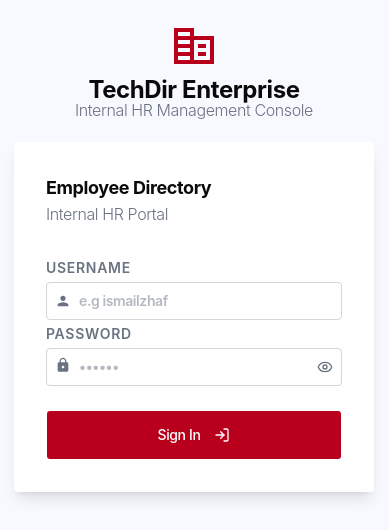
Test case: LoginPage › Menampilkan error ketika password kosong atau kurang dari 6 karakter
This screenshot has width=389, height=530.
Step 1. Type "ismail" into the field labelled "USERNAME" → (190, 301), box [79,291,300,311]
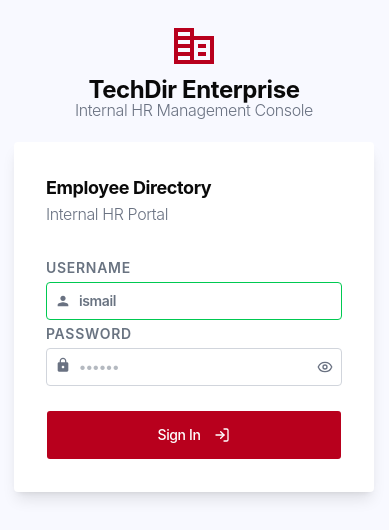
Step 2. Click the button "Sign In" → (194, 435), box [46,410,342,460]
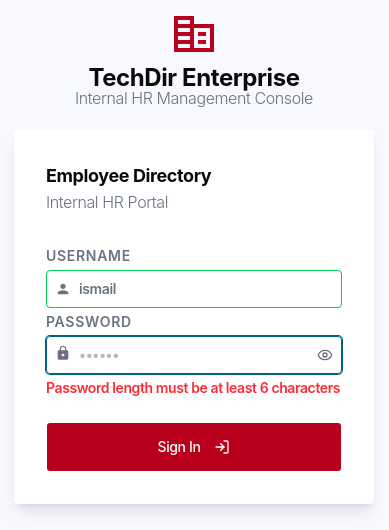
Check: the text "Password length must be at least 6 characters" is shown, box [46,378,342,398]
